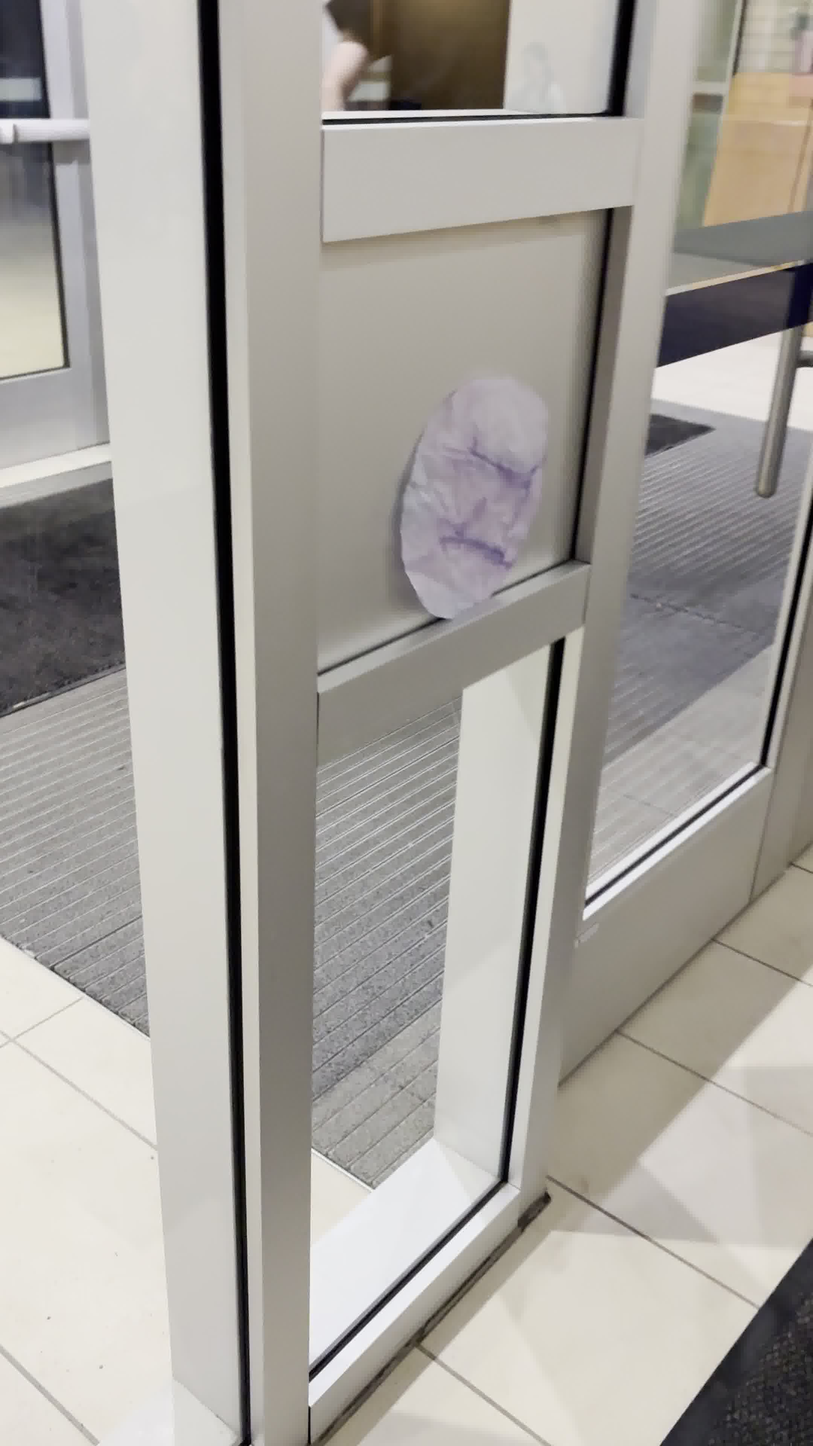Target: (390, 364, 556, 630)
